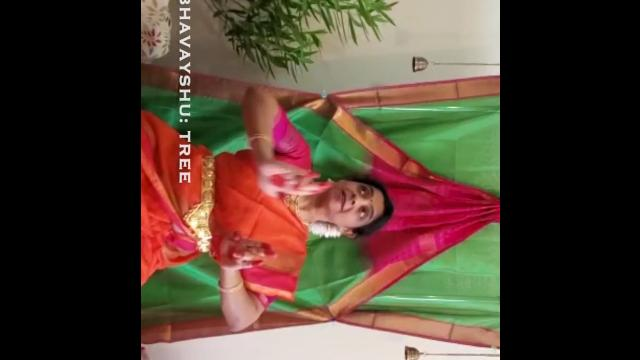tripataka: (242, 163, 332, 211)
